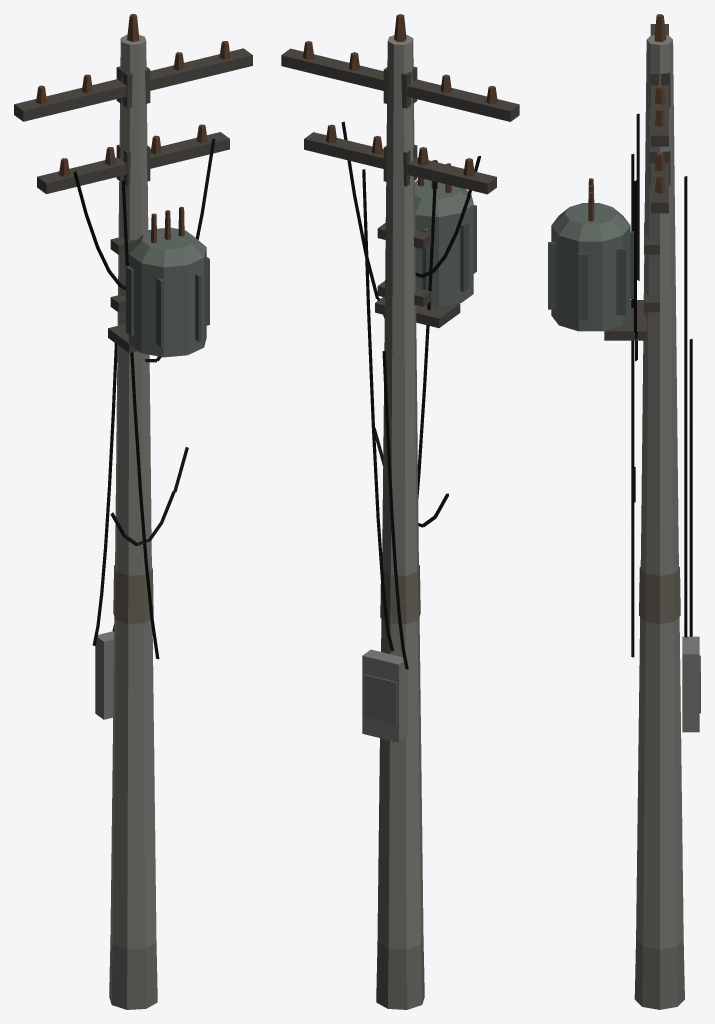
The model's file is powerpole.glb.
The picture shows the model from 3 angles, left to right: view 1: azimuth 30°, elevation 25°; view 2: azimuth 150°, elevation 25°; view 3: azimuth 270°, elevation 25°; orthographic projection.
Visible parts, largest first — view 1: powerpole; view 2: powerpole; view 3: powerpole.
Part boxes in pixels (<box>): powerpole: <box>14,14,252,1009</box>; powerpole: <box>281,14,519,1009</box>; powerpole: <box>548,14,700,1009</box>.
Size of the model in its own units: 2 by 8.2 by 1.15.
